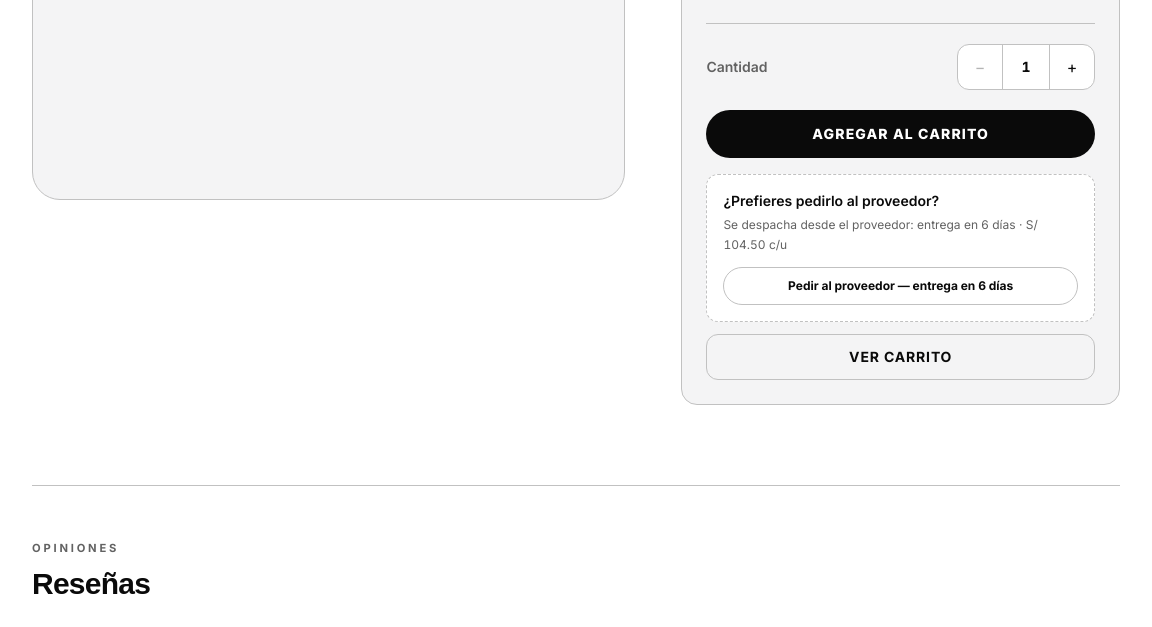
pedir al proveedor aunque haya stock › pulsar la opción del proveedor envía `on_order: true`
This screenshot has width=1152, height=627.
(page scrolled)
Click the button "Pedir al proveedor — entrega en 6 días" at [901, 286], box 723,267 -> 1078,305
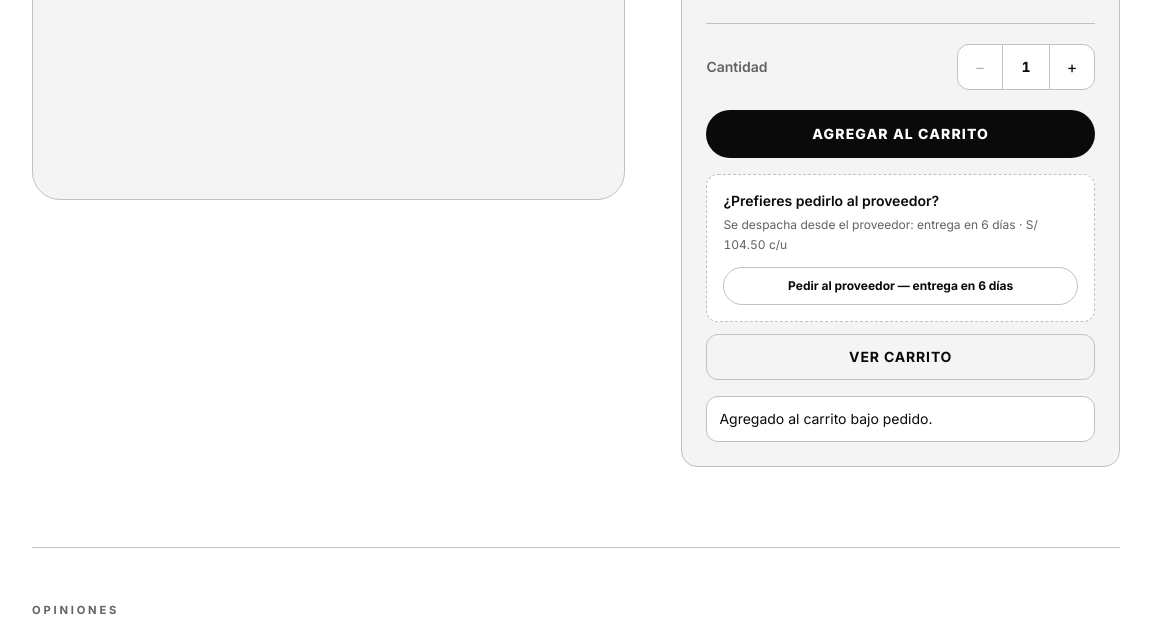
Check: the message reads "Agregado al carrito bajo pedido.", box 719,410 -> 932,427
